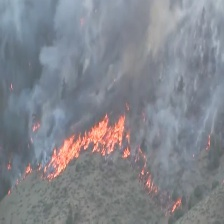fire: (166, 194, 183, 213)
